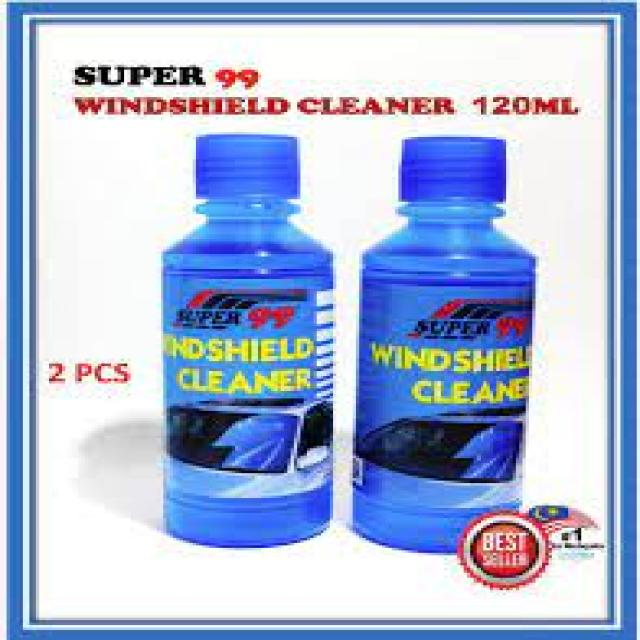winwinshield_washer: (158, 130, 336, 552), (362, 128, 530, 556)
